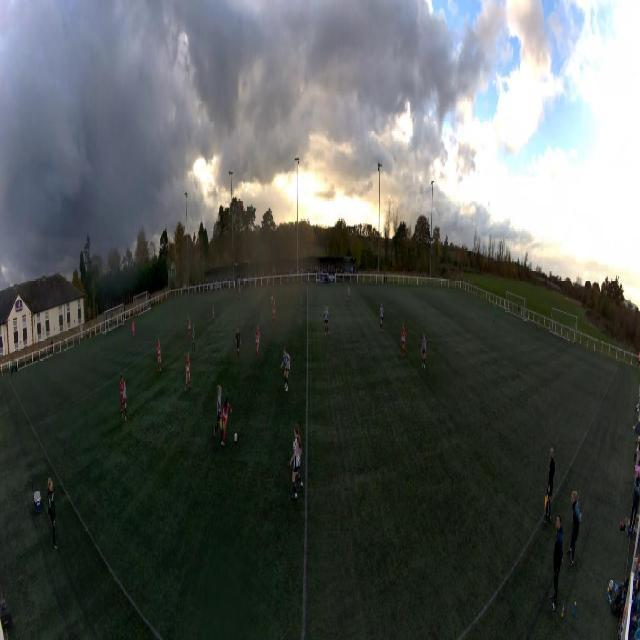ball: (234, 433, 238, 442)
player: (290, 426, 304, 505), (213, 385, 225, 447), (221, 393, 232, 442), (280, 345, 291, 390), (122, 381, 128, 423), (420, 332, 426, 371), (185, 352, 191, 389), (235, 326, 241, 362), (323, 307, 330, 336), (400, 322, 405, 360), (255, 325, 260, 363), (379, 302, 384, 332), (157, 337, 161, 374), (120, 375, 124, 411), (191, 322, 195, 352), (188, 315, 192, 342), (272, 301, 276, 327), (347, 285, 351, 306), (211, 303, 215, 323), (271, 290, 274, 312), (132, 320, 135, 339), (493, 304, 496, 321), (239, 285, 241, 304)
